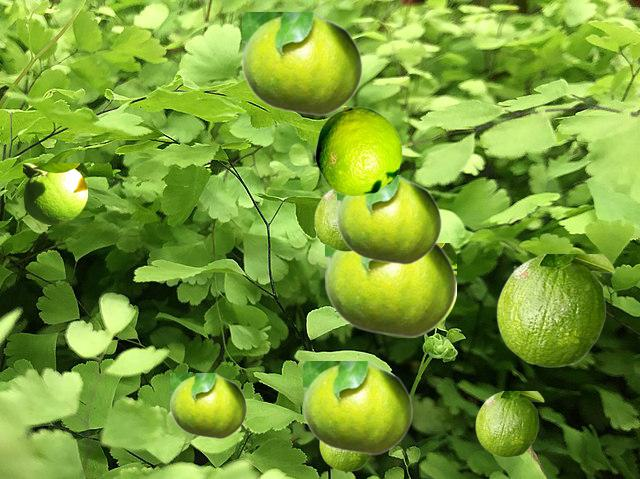dalandan: (496, 254, 614, 366), (242, 12, 362, 115), (325, 243, 456, 337), (303, 361, 412, 454), (337, 175, 441, 264), (315, 106, 401, 195), (387, 243, 455, 336), (170, 373, 246, 438), (475, 391, 543, 456), (23, 163, 86, 223), (314, 189, 349, 250), (319, 442, 371, 470)
